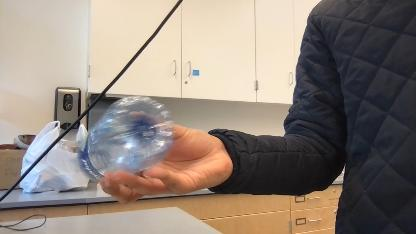Plastic Bottle: (72, 92, 176, 188)
